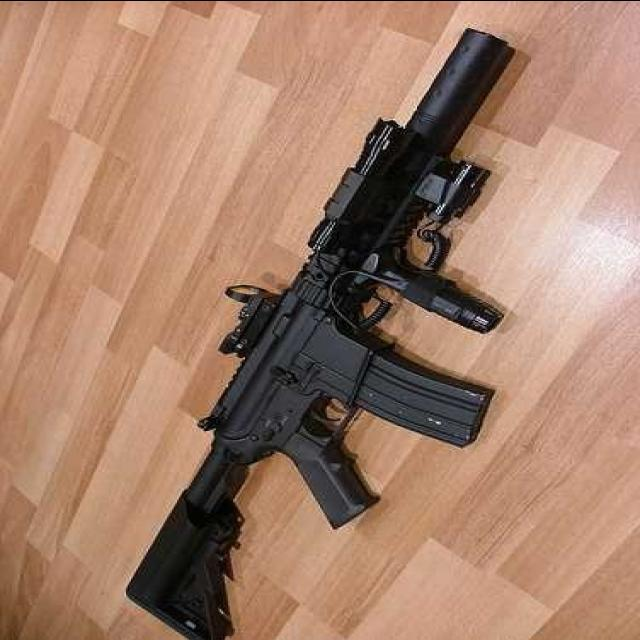heavyweapon: (81, 19, 519, 640)
